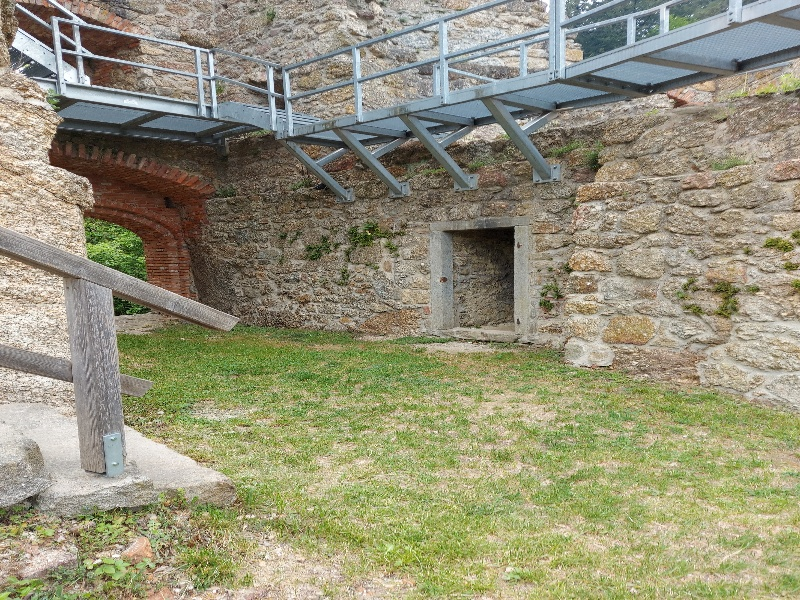door1: (421, 211, 556, 368)
